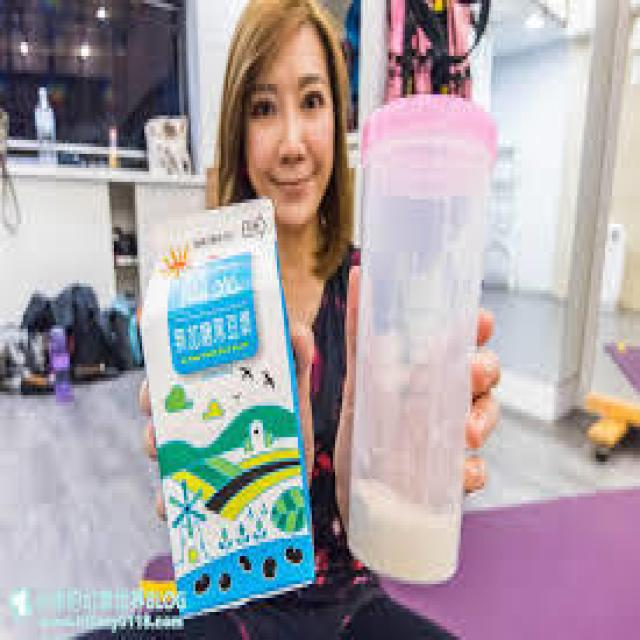TongYi_UnsweetenedBlackSoyMilk: (140, 192, 319, 616)
